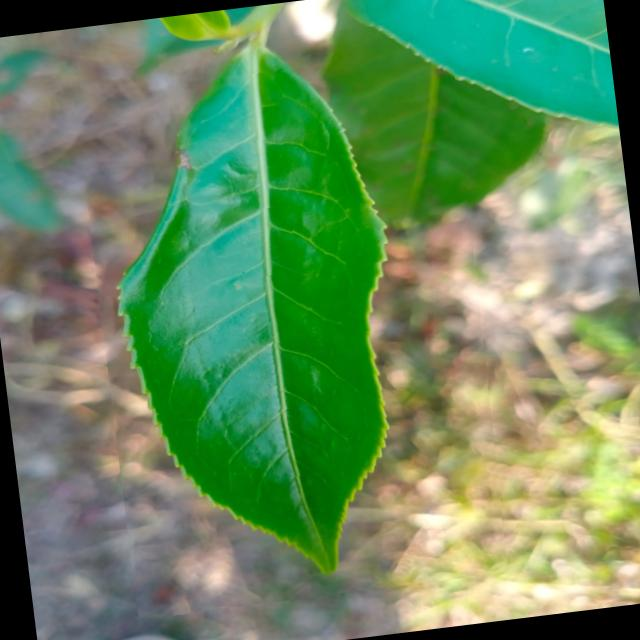Category D(7+ days, Not for Tea): (70, 17, 516, 620)
